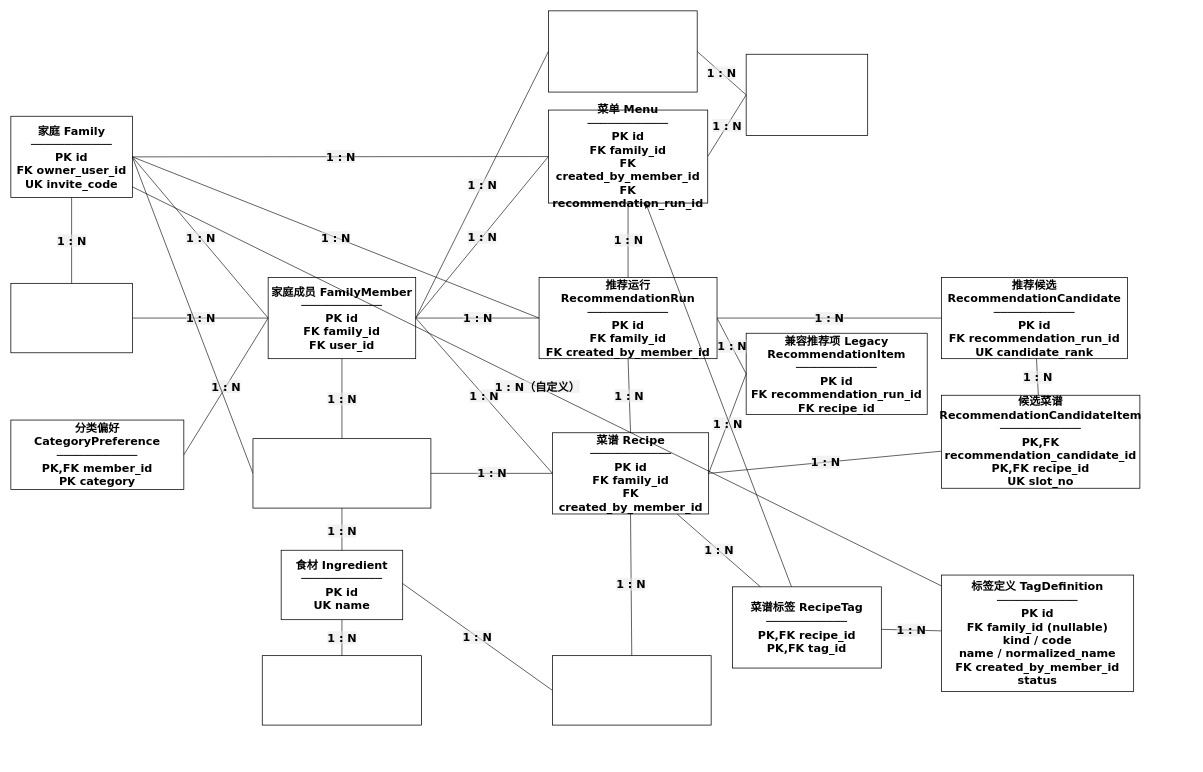
This 1203x772 diagram has some shape labels left out. The shapes that lost their labels are listed below. From the top down, each one's box as (x1, y1, x2, y2) in pixels, then its label:
(548, 10, 697, 92): 用餐反馈 MenuFeedback ──────────── PK id FK menu_item_id FK member_id
(745, 54, 868, 136): 菜单项 MenuItem ──────────── PK id FK menu_id FK recipe_id
(10, 283, 132, 353): 用户 User ──────────── PK id UK openid
(252, 438, 431, 508): 食材限制 IngredientRestriction ──────────── PK,FK member_id PK,FK ingredient_id
(262, 655, 422, 725): 食材季节 IngredientSeason ──────────── PK,FK ingredient_id PK month
(552, 655, 711, 725): 菜谱食材 RecipeIngredient ──────────── PK,FK recipe_id PK,FK ingredient_id
